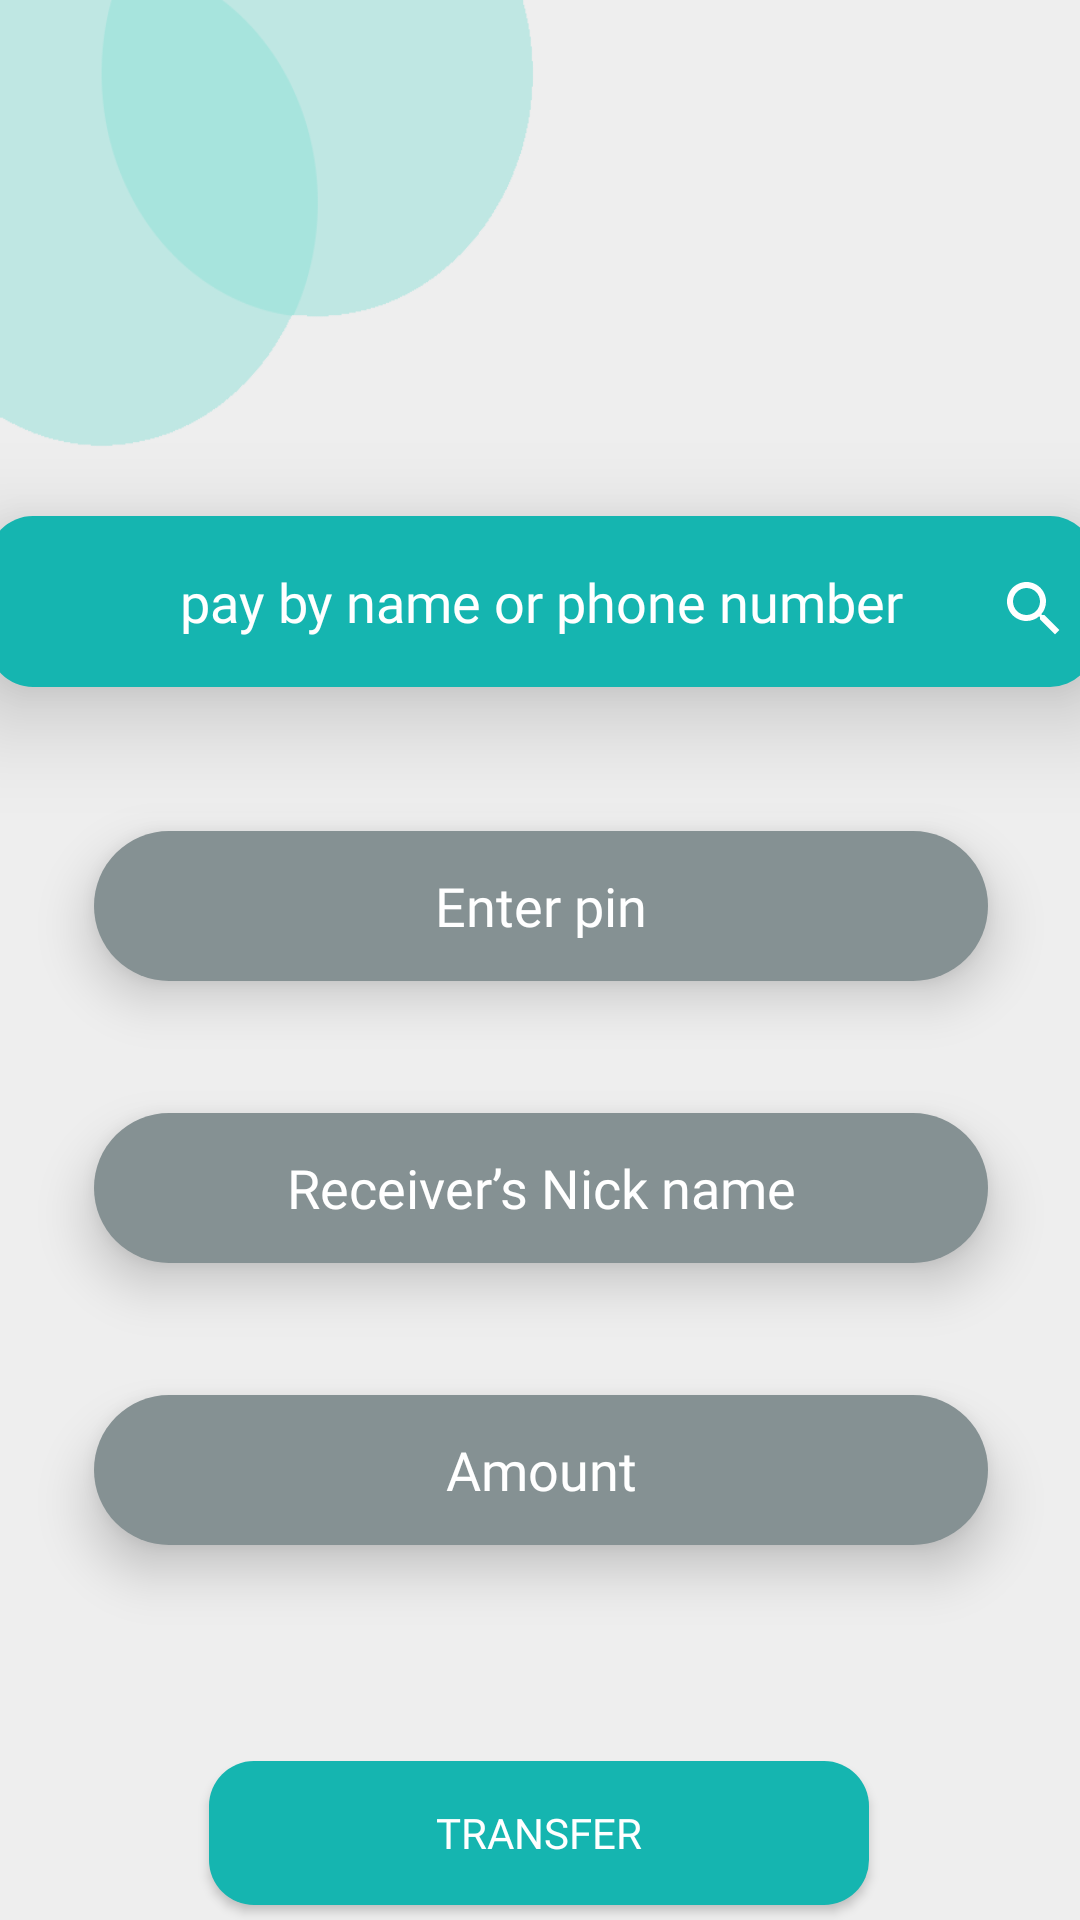

Icons on this 1080×1920 Android screen, each with the point to tap as (x,y):
search: (1033,608)
